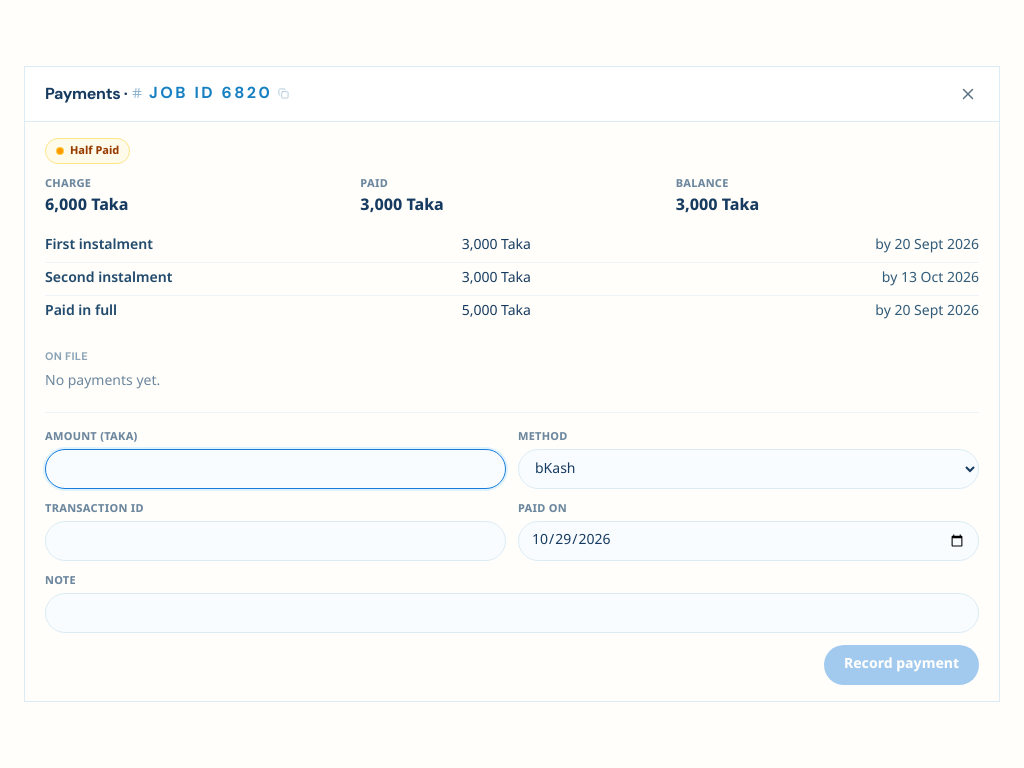
Scenario: a tuition's payments › keeps only digits in the amount, so a stray letter cannot become a payment
This screenshot has width=1024, height=768.
Type "12ab5" into the field labelled "Amount (Taka)" at coordinates (276, 469), box x1=45 y1=449 x2=506 y2=489
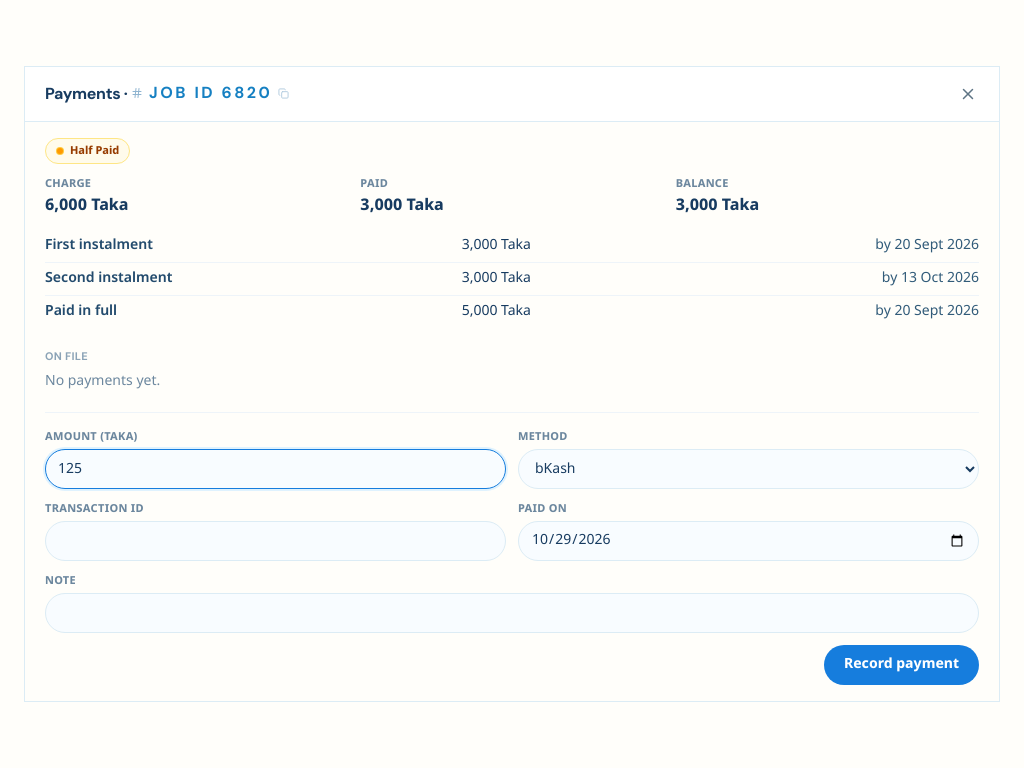
Result: the field labelled "Amount (Taka)" holds "125" at x1=45 y1=449 x2=506 y2=489
